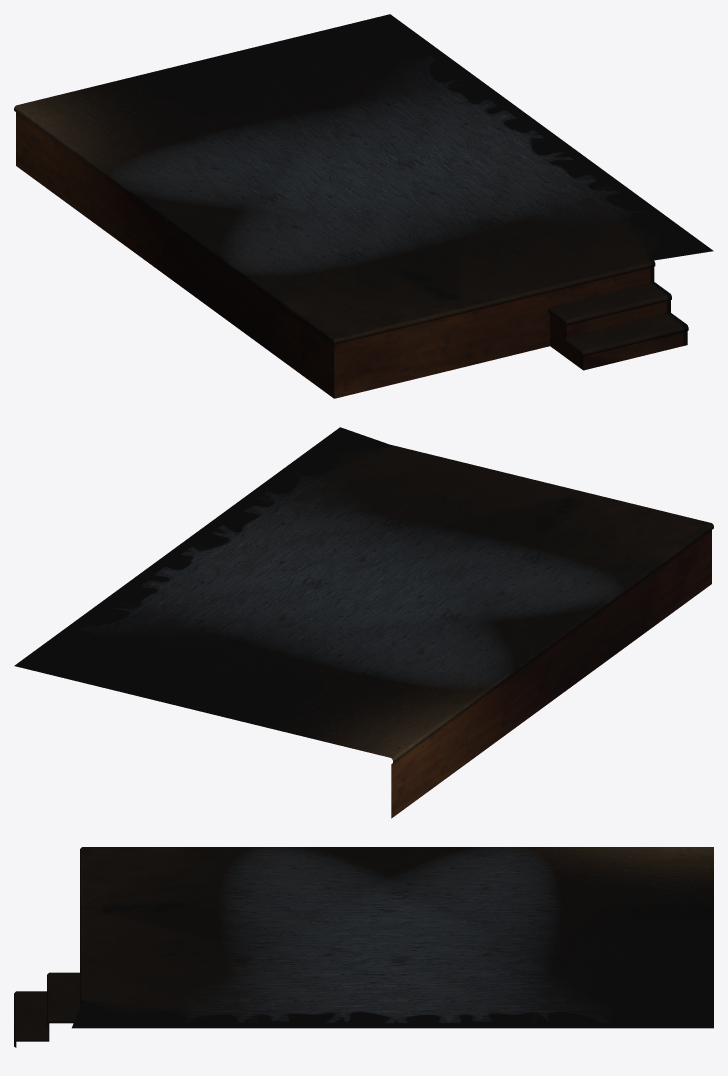
Rendered from stage4.obj.
The picture shows the model from 3 angles, top to bottom: view 1: azimuth 30°, elevation 25°; view 2: azimuth 150°, elevation 25°; view 3: azimuth 270°, elevation 25°; orthographic projection.
Visible parts, largest first — view 1: stage4 group5 BakedQuadGeos; view 2: stage4 group5 BakedQuadGeos; view 3: stage4 group5 BakedQuadGeos.
Part boxes in pixels (x1=…): stage4 group5 BakedQuadGeos: x1=14, y1=14, x2=713, y2=398; stage4 group5 BakedQuadGeos: x1=14, y1=427, x2=713, y2=818; stage4 group5 BakedQuadGeos: x1=14, y1=847, x2=713, y2=1047.
Bounding box in the file's own units: 5.11 × 0.7821 × 8.29.
Materials: 1 (1 with a texture image).
